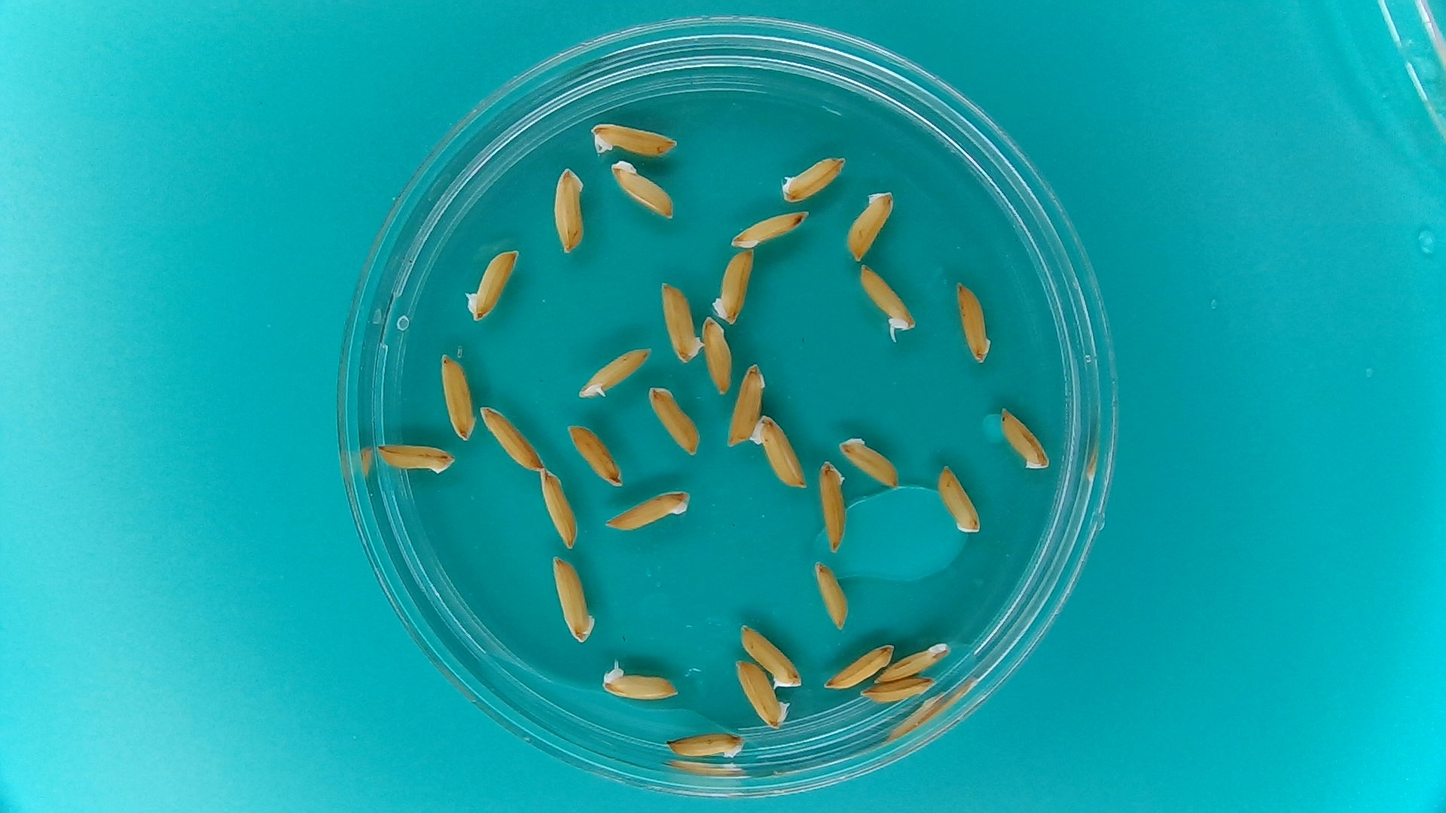no: (467, 401, 558, 476), (544, 549, 603, 645), (733, 620, 808, 692), (728, 659, 799, 734), (459, 239, 522, 321), (596, 488, 696, 538), (604, 161, 679, 227), (837, 186, 898, 267), (563, 422, 630, 494), (850, 638, 957, 682), (750, 416, 808, 495), (653, 282, 703, 370), (994, 403, 1055, 475), (648, 385, 704, 462), (725, 206, 818, 252), (806, 555, 858, 636), (819, 643, 898, 696), (931, 461, 984, 539), (430, 355, 477, 441), (776, 152, 850, 204), (727, 360, 768, 453), (696, 311, 738, 401), (837, 436, 908, 489), (816, 457, 853, 558), (713, 248, 760, 325), (955, 281, 996, 367), (581, 123, 687, 155), (550, 166, 587, 257), (535, 472, 579, 548), (365, 443, 459, 478), (664, 731, 752, 763), (858, 675, 941, 705)
yes: (859, 264, 916, 334), (584, 349, 648, 398), (596, 669, 673, 703)
